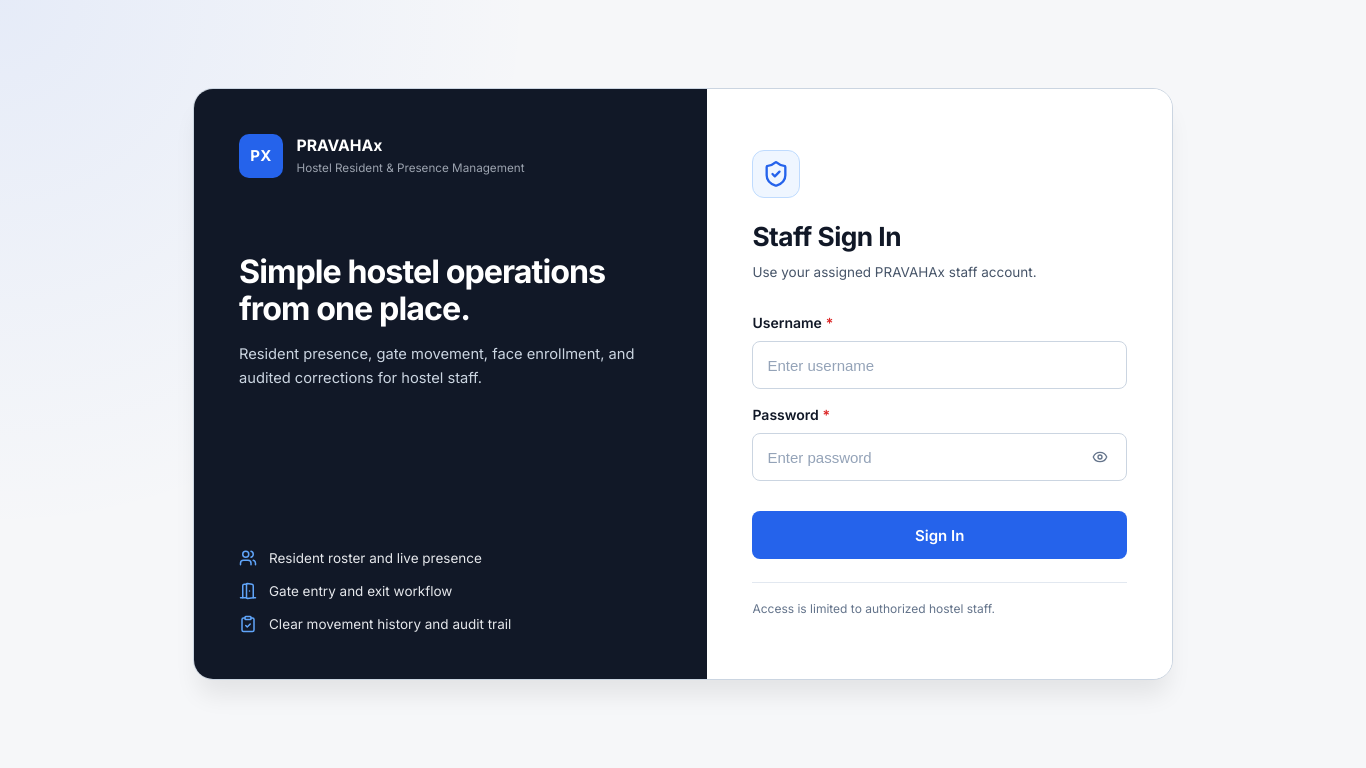
Test: LoginPage Component › toggles password visibility between text and password types
The image size is (1366, 768).
Click the button named "show password" at (1100, 457), box 1082,439 -> 1118,475
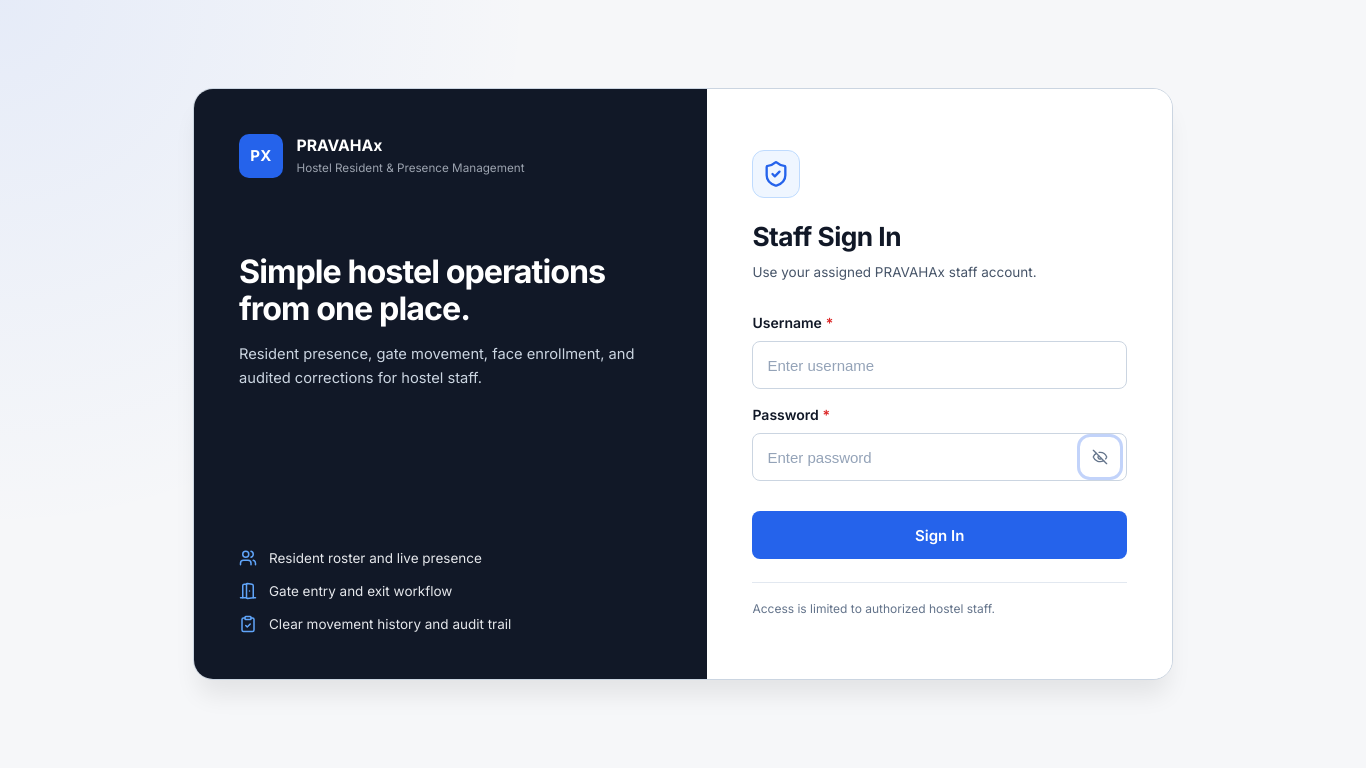
Check: the button named "hide password" is shown, box 1082,439 -> 1118,475
